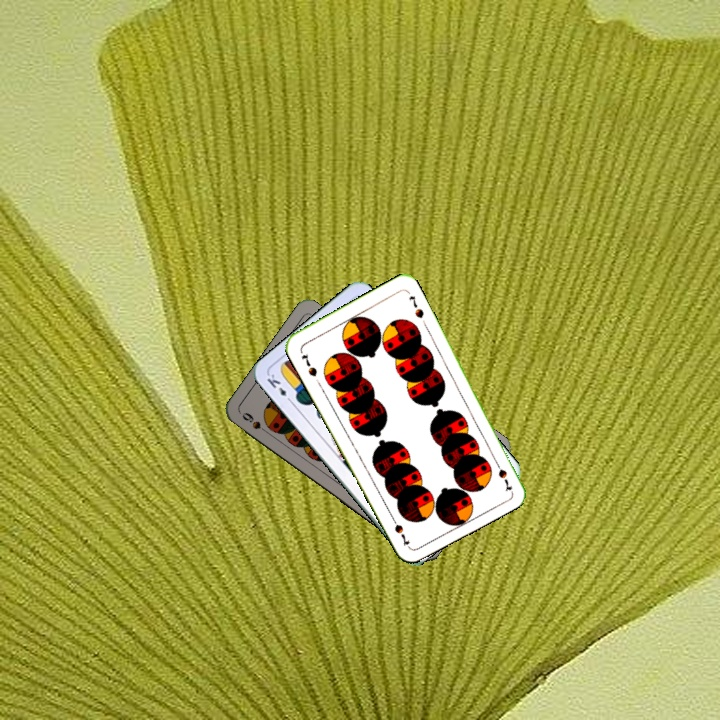EK: (262, 370, 295, 405)
S7: (490, 455, 515, 493), (297, 350, 320, 379)
S9: (238, 408, 273, 438)
